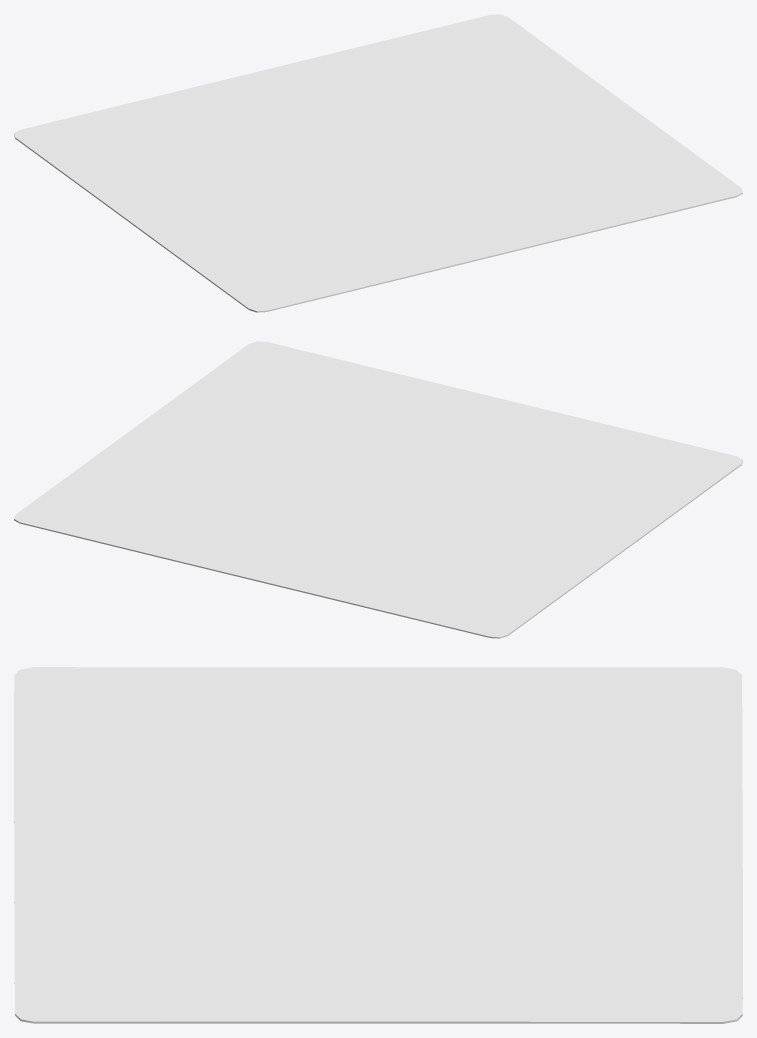
Rendered from TrayCover.fbx.
The picture shows the model from 3 angles, top to bottom: view 1: azimuth 30°, elevation 25°; view 2: azimuth 150°, elevation 25°; view 3: azimuth 270°, elevation 25°; orthographic projection. The views are drawn at different scales.
Visible parts, largest first — view 1: TrayCover; view 2: TrayCover; view 3: TrayCover.
Boxes of the visible parts, x1,y1,x2,y2 form: TrayCover: [14, 14, 742, 312]; TrayCover: [14, 341, 742, 638]; TrayCover: [14, 667, 742, 1023].
Bounding box in the file's own units: 1940 × 5 × 1685.
Materials: 1 (1 with a texture image).
